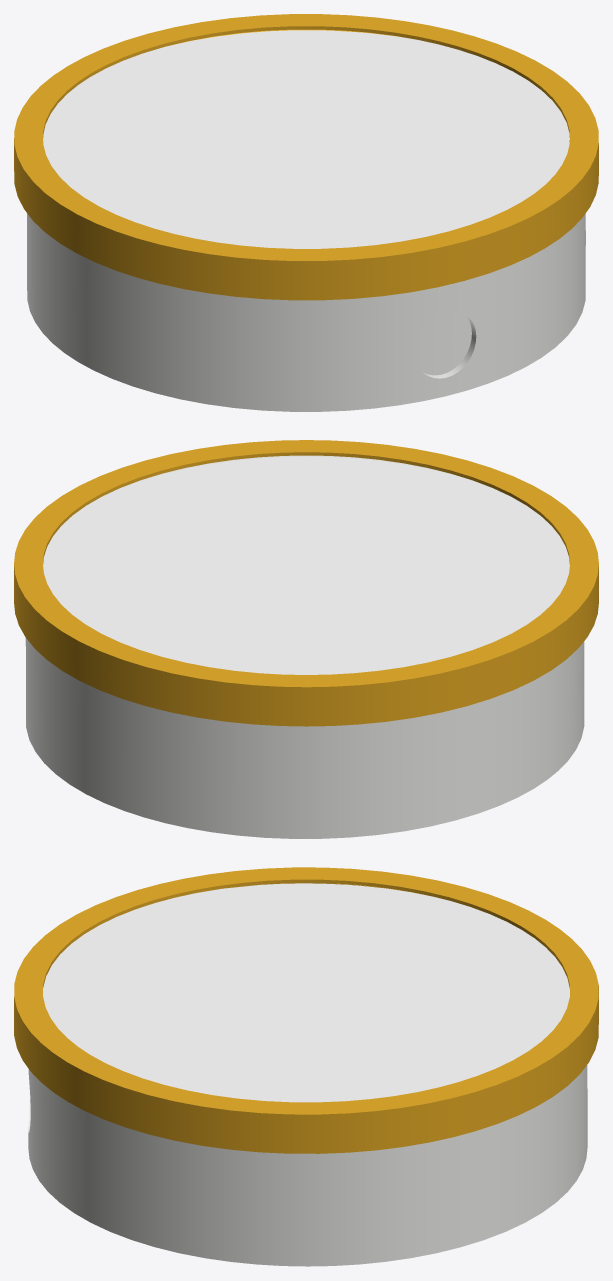
Rendered from 2023Gauge.fbx.
The picture shows the model from 3 angles, top to bottom: view 1: azimuth 30°, elevation 25°; view 2: azimuth 150°, elevation 25°; view 3: azimuth 270°, elevation 25°; orthographic projection.
Visible parts, largest first — view 1: Body1 (×3); view 2: Body1 (×3); view 3: Body1 (×3).
Boxes of the visible parts, bbox=[...] form: Body1 (×3): bbox=[14, 14, 598, 411]; Body1 (×3): bbox=[14, 440, 598, 838]; Body1 (×3): bbox=[14, 867, 598, 1266].
Size of the model in its own units: 162 by 47.97 by 162.
